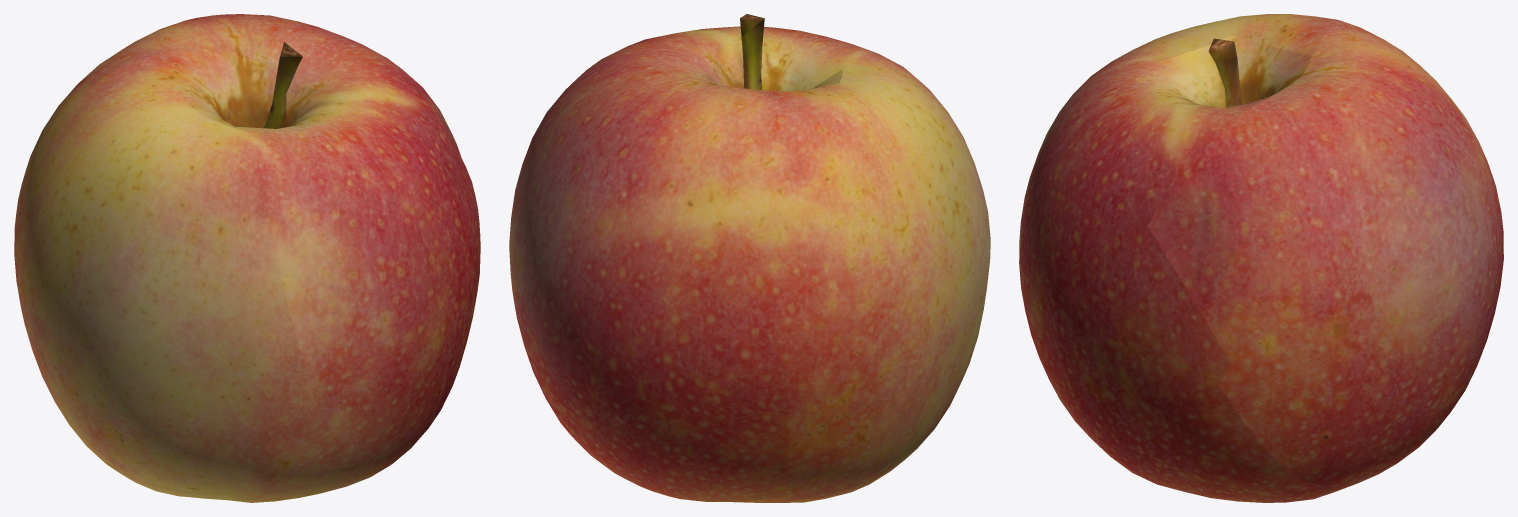
File: apple.dae
3 renders of one model, left to right at view 1: azimuth 30°, elevation 25°; view 2: azimuth 150°, elevation 25°; view 3: azimuth 270°, elevation 25°, orthographic.
Parts seen in each view (by area): view 1: Appple; view 2: Appple; view 3: Appple.
Boxes of the visible parts, <box> form: Appple: <box>14,14,480,502</box>; Appple: <box>509,14,990,502</box>; Appple: <box>1019,14,1503,502</box>.
Size of the model in its own units: 0.1234 by 0.1255 by 0.1221.
1 material, 1 textured.
